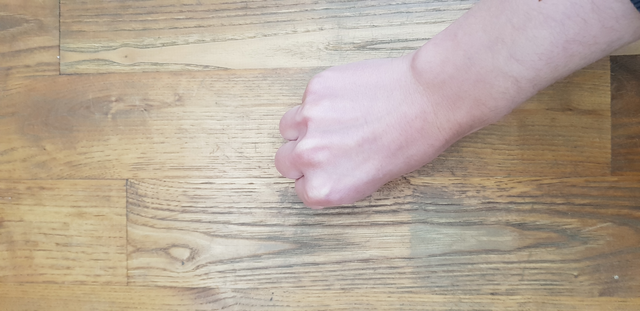Rock: (234, 57, 460, 228)
